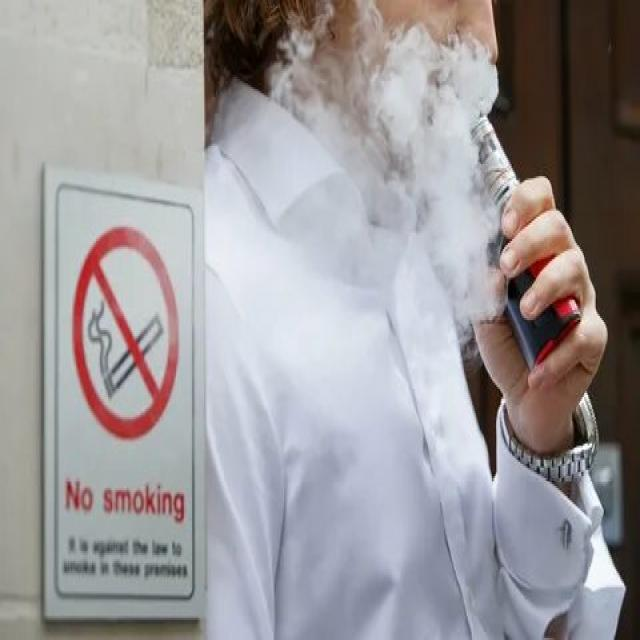cigarette: (452, 103, 585, 385)
